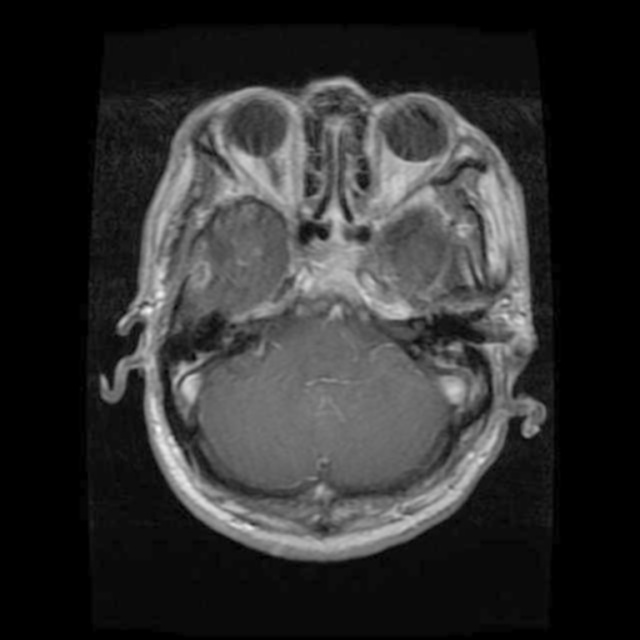pituitary tumor: (300, 241, 381, 299)
